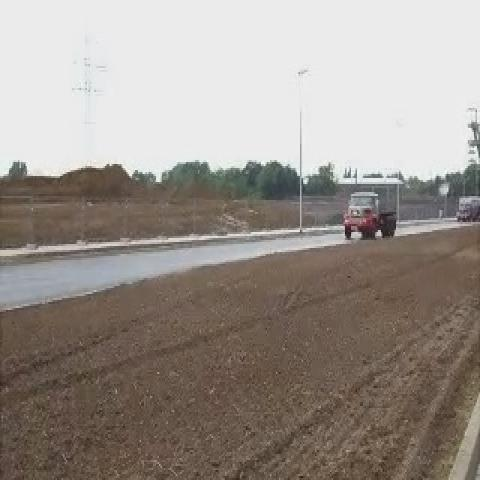truck: (342, 190, 399, 238), (456, 194, 478, 224)
